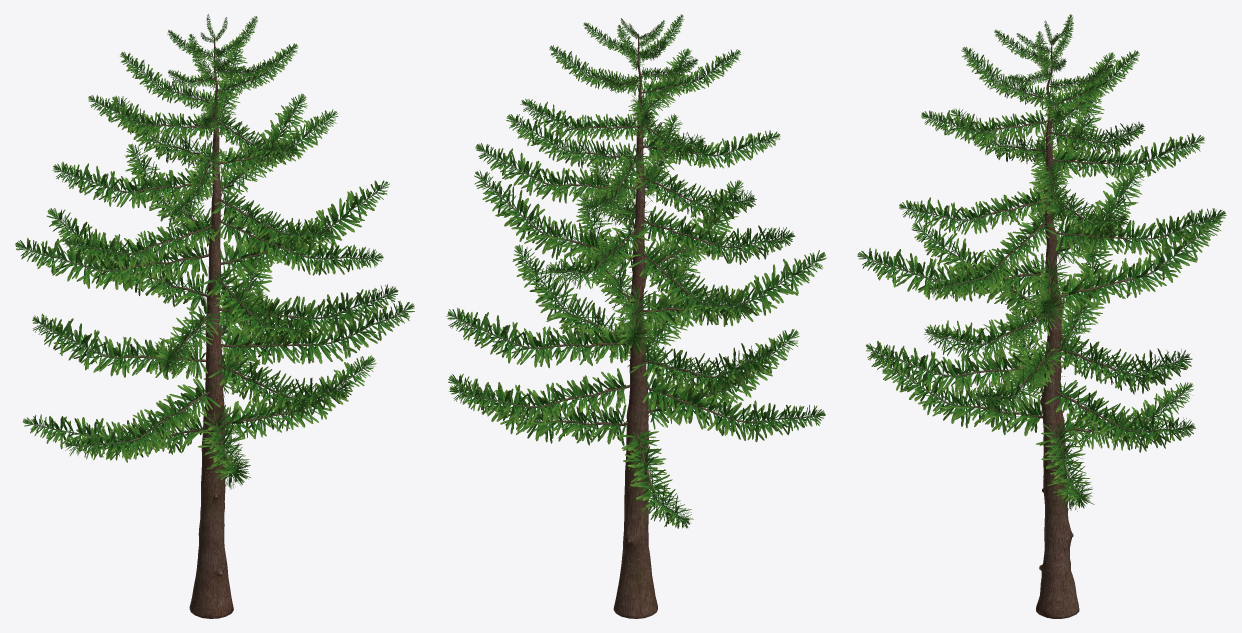
Rendered from tree_evergreen.glb.
3 renders of one model, left to right at view 1: azimuth 30°, elevation 25°; view 2: azimuth 150°, elevation 25°; view 3: azimuth 270°, elevation 25°, orthographic.
Visible parts, largest first — view 1: tree_evergreen; view 2: tree_evergreen; view 3: tree_evergreen.
Boxes of the visible parts, x1,y1,x2,y2 form: tree_evergreen: (15, 14, 414, 618); tree_evergreen: (446, 14, 826, 618); tree_evergreen: (857, 14, 1226, 618).
Size of the model in its own units: 5.8 by 9.5 by 5.45.
2 materials, 2 textured.
